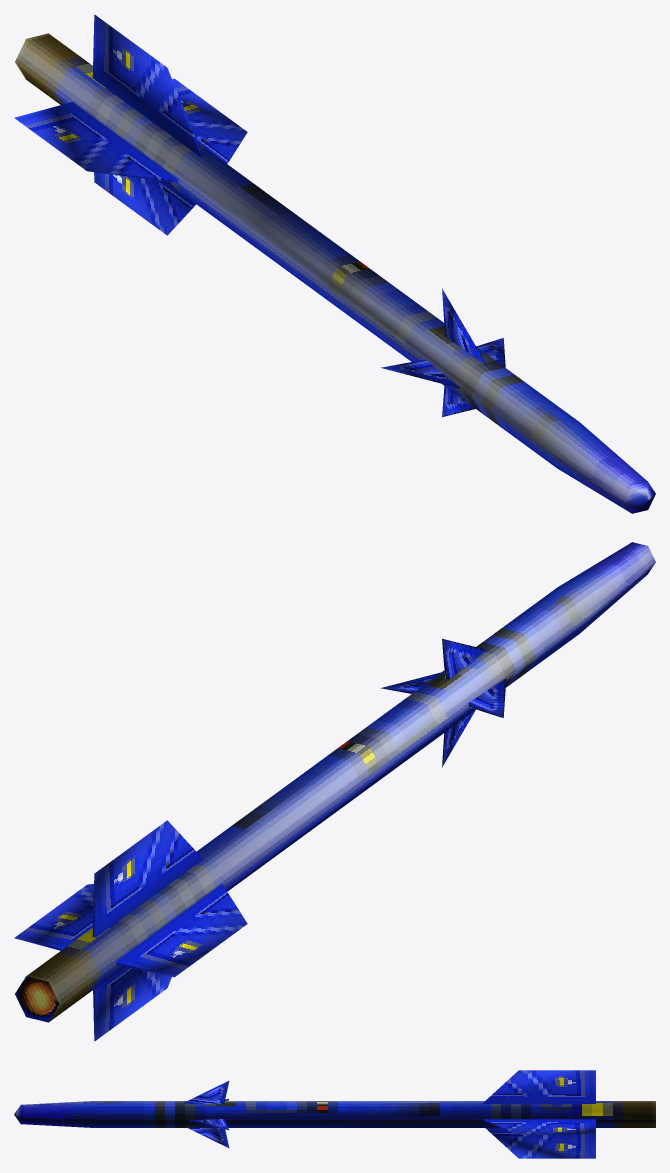
Rendered from mis11.glb.
3 views of the same model, one above another, from view 1: azimuth 30°, elevation 25°; view 2: azimuth 150°, elevation 25°; view 3: azimuth 270°, elevation 25° (orthographic). The views are drawn at different scales.
Parts seen in each view (by area): view 1: mis11; view 2: mis11; view 3: mis11.
Part boxes in pixels (<box>): mis11: <box>14,14,655,513</box>; mis11: <box>14,542,655,1041</box>; mis11: <box>14,1070,655,1158</box>.
Bounding box in the file's own units: 1.73 × 1.73 × 11.35.
1 material, 1 textured.
